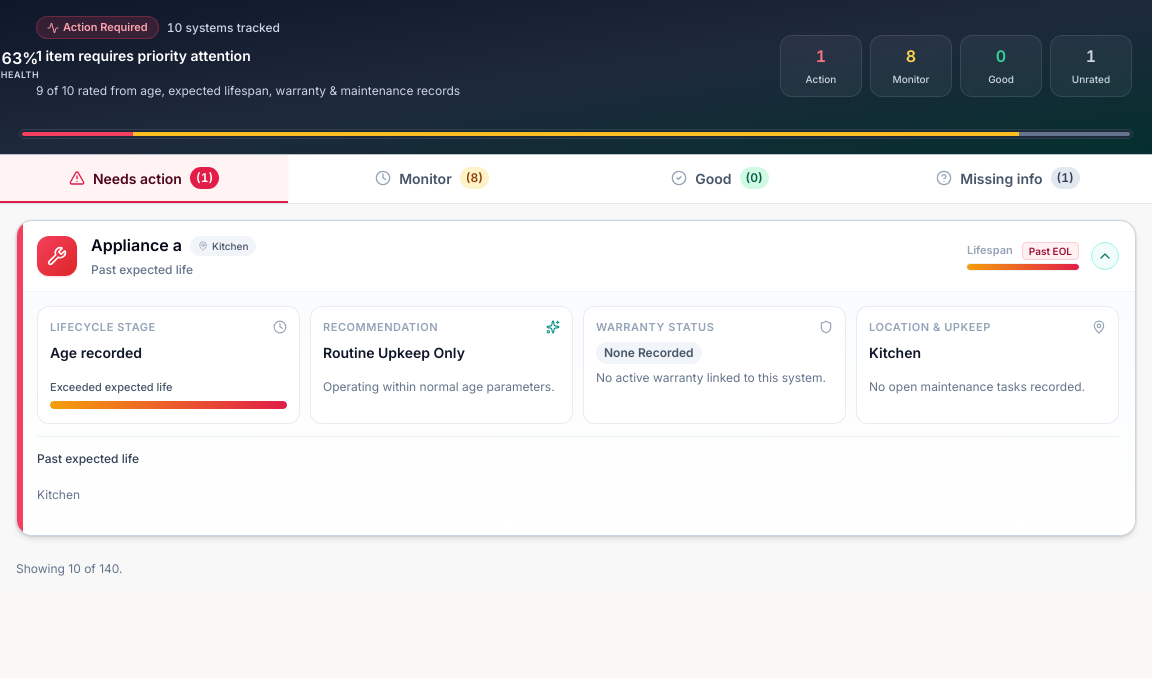
Scenario: an accordion row exposes expanded state and the element it controls; Show more is a real button that keeps focus
Click the tab "Monitor (8)" at (432, 179), box 288,155 -> 576,203
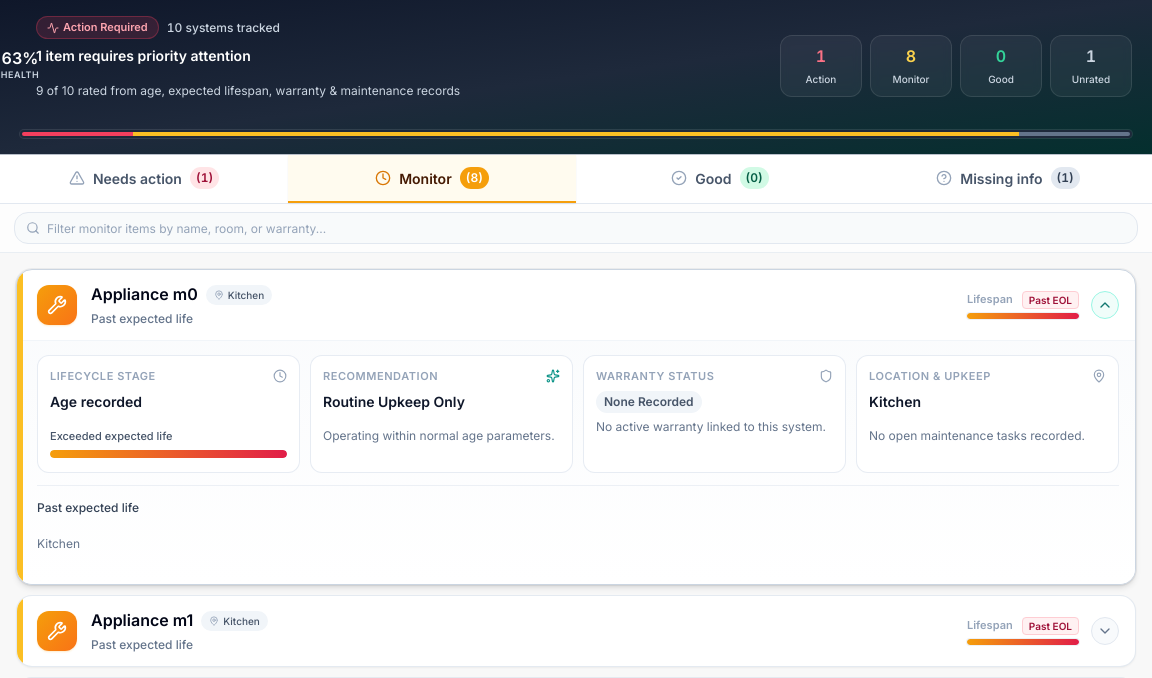
Click the button "Appliance m0 Kitchen Past expected life Lifespan Past EOL" at (57, 305), box 17,270 -> 1135,340
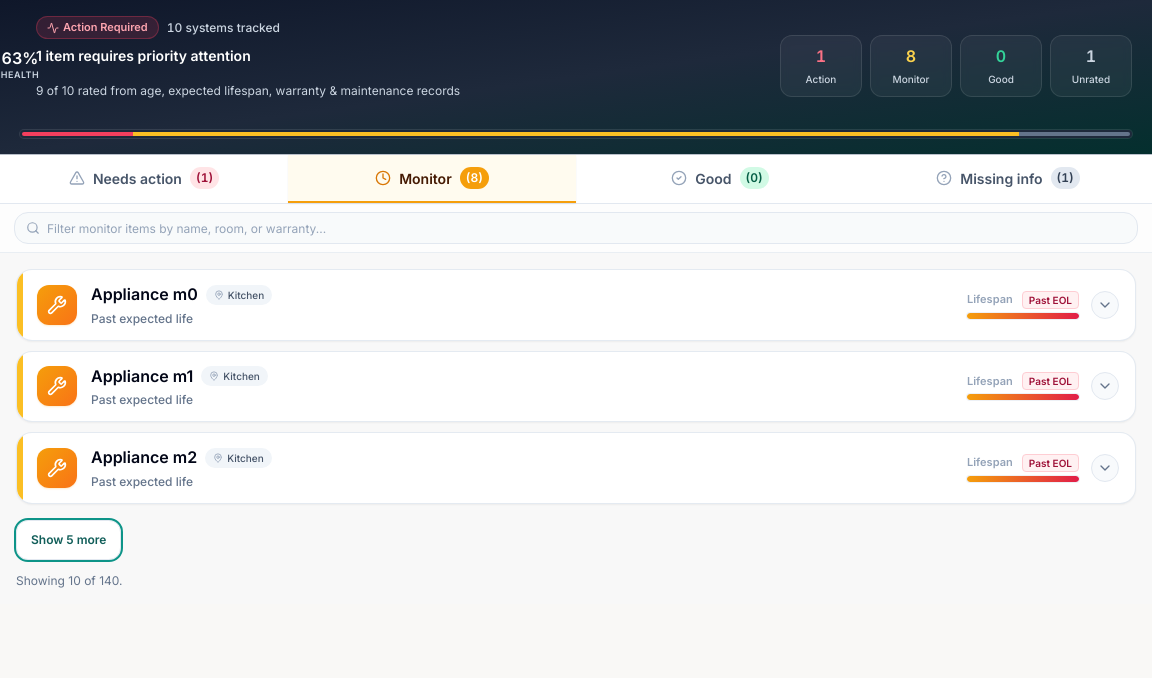
expect the button "Appliance m0 Kitchen Past expected life Lifespan Past EOL" is collapsed: met, box 17,270 -> 1135,340
Click the button "Show 5 more" at (69, 540), box 16,520 -> 122,560
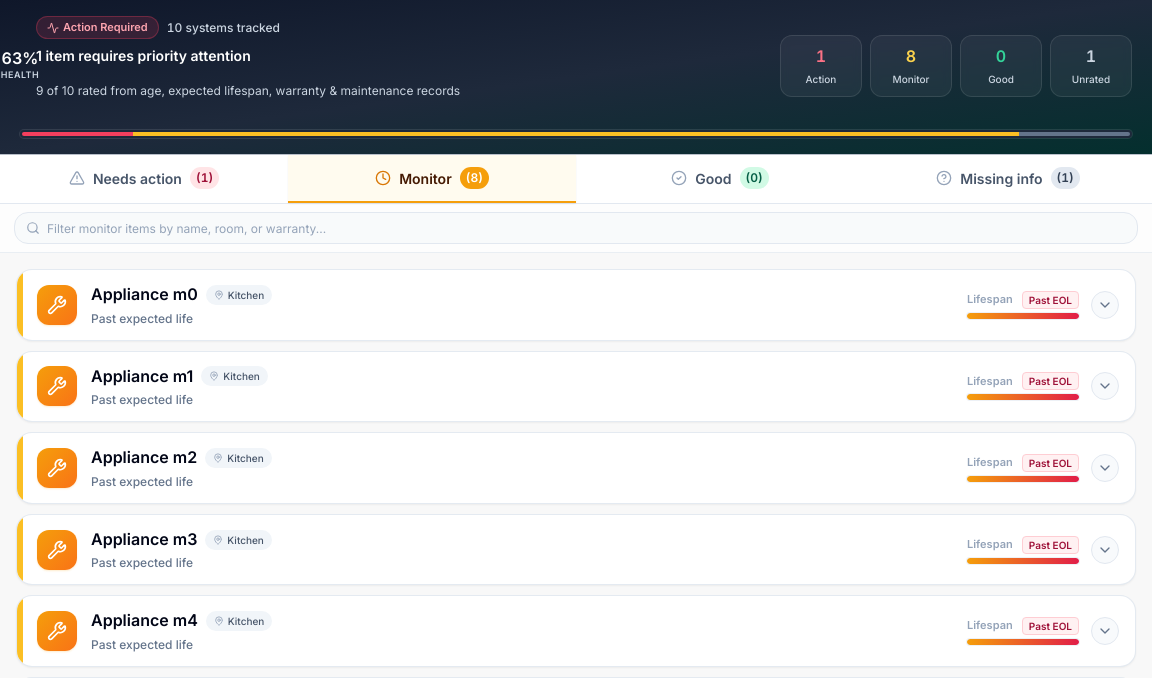
expect the number of list items is 8: met
